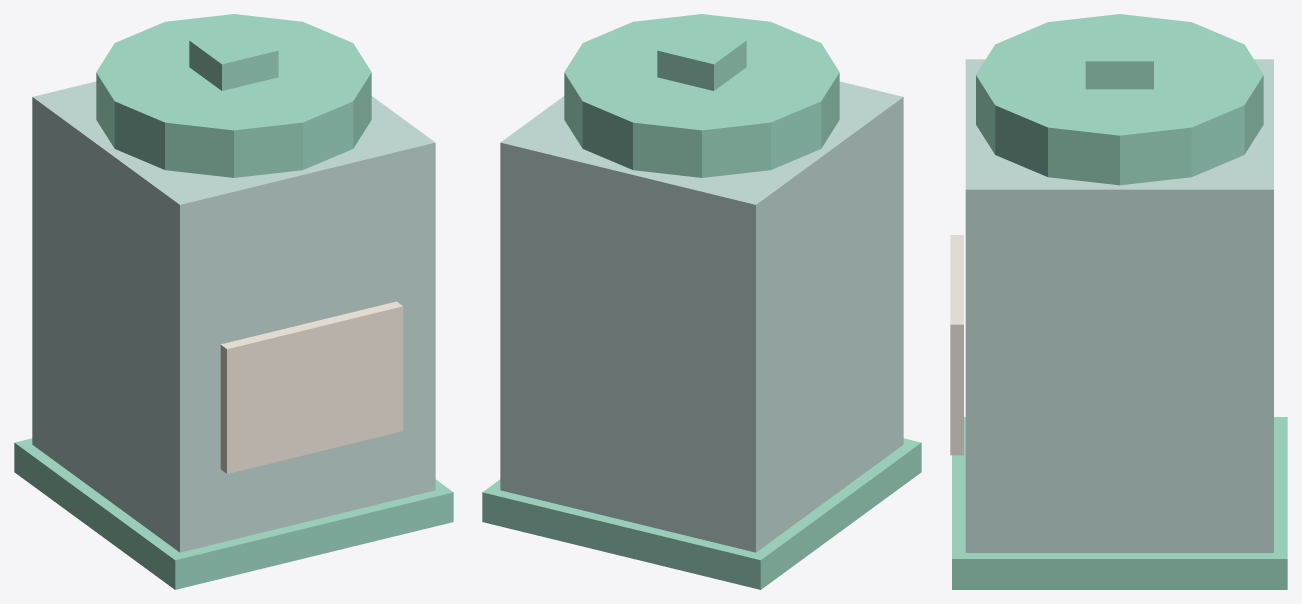
File: CleanACat_Prop_TipJar.fbx
The picture shows the model from 3 angles, left to right: view 1: azimuth 30°, elevation 25°; view 2: azimuth 150°, elevation 25°; view 3: azimuth 270°, elevation 25°; orthographic projection. The views are drawn at different scales.
Parts seen in each view (by area): view 1: CleanACat_Prop_TipJar_Glass, CleanACat_Prop_TipJar, CleanACat_Prop_TipJar_Screen; view 2: CleanACat_Prop_TipJar_Glass, CleanACat_Prop_TipJar; view 3: CleanACat_Prop_TipJar_Glass, CleanACat_Prop_TipJar, CleanACat_Prop_TipJar_Screen.
Part boxes in pixels (left/top/right/bottom): CleanACat_Prop_TipJar_Glass: left=32, top=81, right=435, bottom=552; CleanACat_Prop_TipJar: left=14, top=14, right=453, bottom=589; CleanACat_Prop_TipJar_Screen: left=220, top=301, right=403, bottom=473; CleanACat_Prop_TipJar_Glass: left=500, top=81, right=903, bottom=552; CleanACat_Prop_TipJar: left=482, top=14, right=921, bottom=589; CleanACat_Prop_TipJar_Glass: left=965, top=59, right=1273, bottom=552; CleanACat_Prop_TipJar: left=952, top=14, right=1287, bottom=589; CleanACat_Prop_TipJar_Screen: left=950, top=235, right=963, bottom=455.
Bounding box in the file's own units: 0.98 × 1.52 × 0.985.
Materials: 1 (1 with a texture image).
